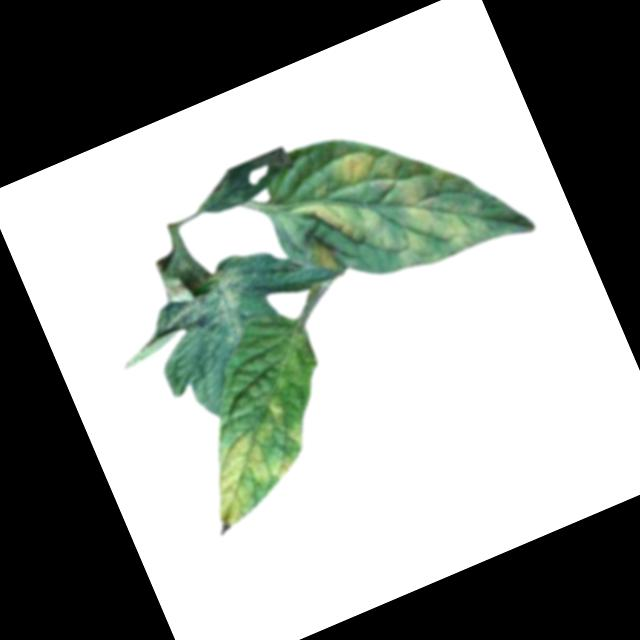Leaf_Mold: (274, 95, 499, 306), (184, 392, 327, 530), (150, 259, 265, 367)
